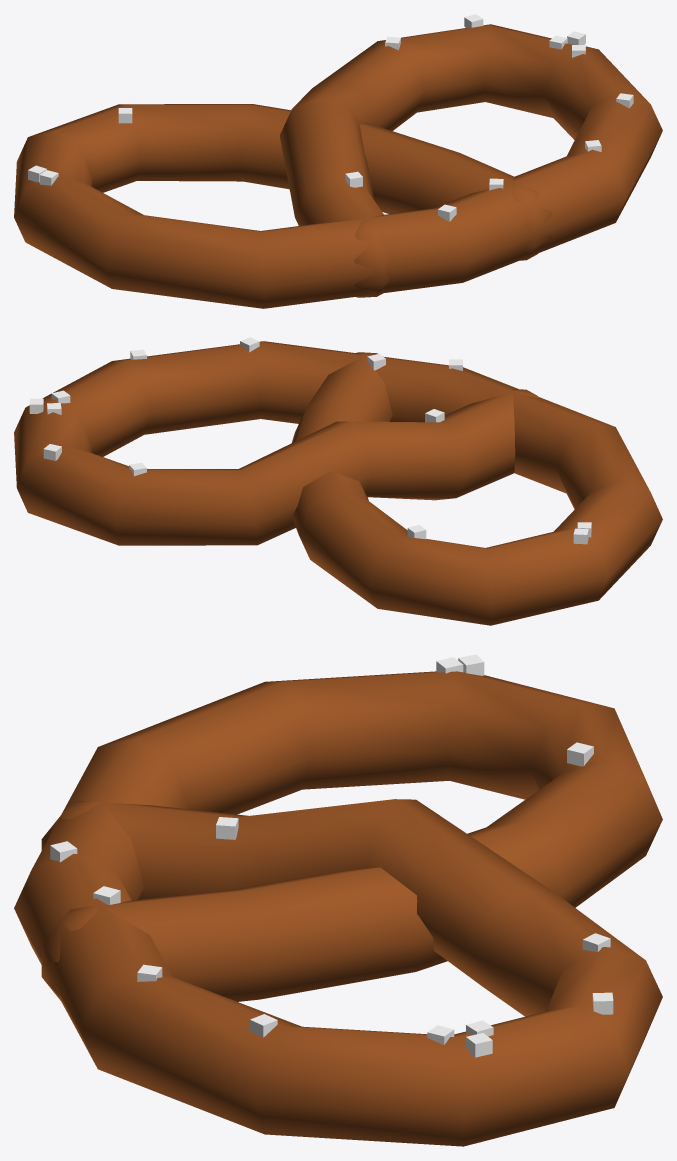
File: pretzel.glb
3 renders of one model, top to bottom at view 1: azimuth 30°, elevation 25°; view 2: azimuth 150°, elevation 25°; view 3: azimuth 270°, elevation 25°, orthographic. The views are drawn at different scales.
Visible parts, largest first — view 1: Pretzel; view 2: Pretzel; view 3: Pretzel.
Part boxes in pixels (bbox=[...]): Pretzel: bbox=[14, 14, 662, 308]; Pretzel: bbox=[14, 337, 662, 625]; Pretzel: bbox=[14, 654, 662, 1146].
Size of the model in its own units: 0.3973 by 0.068 by 0.2625.
